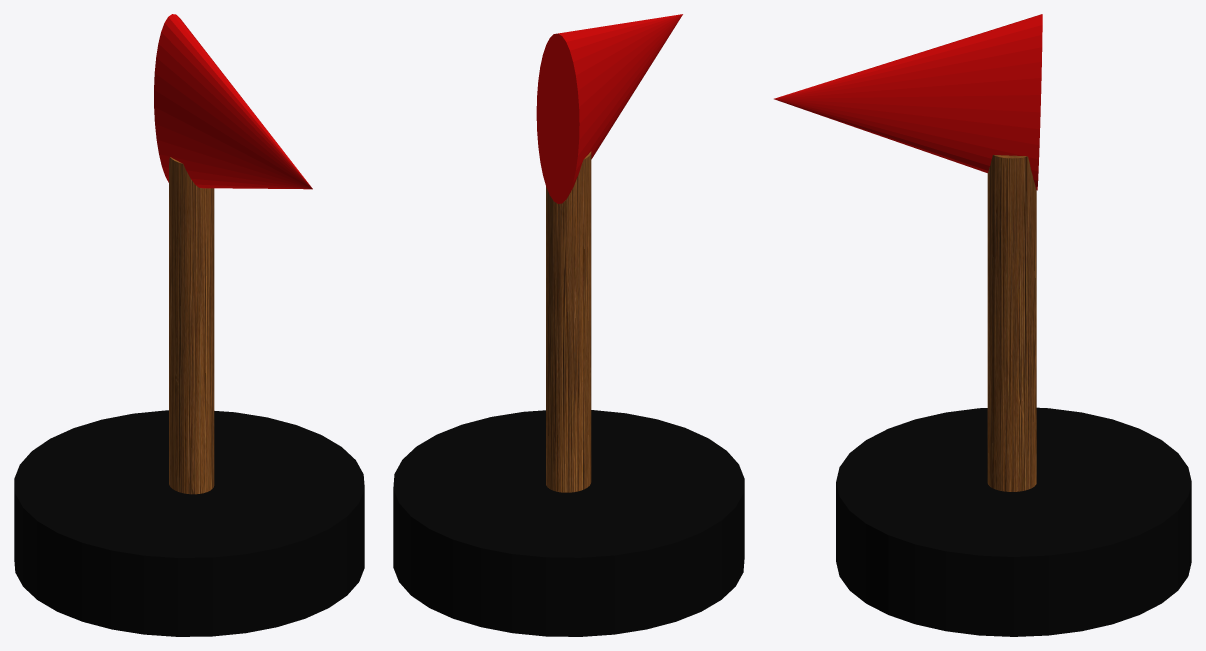
File: blender_nedo-flag.glb
The picture shows the model from 3 angles, left to right: view 1: azimuth 30°, elevation 25°; view 2: azimuth 150°, elevation 25°; view 3: azimuth 270°, elevation 25°; orthographic projection.
Visible parts, largest first — view 1: Cylinder, Cone, Cylinder.001; view 2: Cylinder, Cylinder.001, Cone; view 3: Cylinder, Cone, Cylinder.001.
Boxes of the visible parts, left/top/right/bottom form: Cylinder: left=14, top=410, right=364, bottom=636; Cone: left=154, top=14, right=312, bottom=189; Cylinder.001: left=169, top=157, right=214, bottom=494; Cylinder: left=393, top=410, right=744, bottom=636; Cylinder.001: left=546, top=151, right=591, bottom=492; Cone: left=536, top=14, right=682, bottom=203; Cylinder: left=836, top=407, right=1191, bottom=636; Cone: left=774, top=14, right=1042, bottom=190; Cylinder.001: left=987, top=155, right=1036, bottom=491.
Bounding box in the file's own units: 2 × 3.39 × 2.35.
3 materials, 1 textured.
